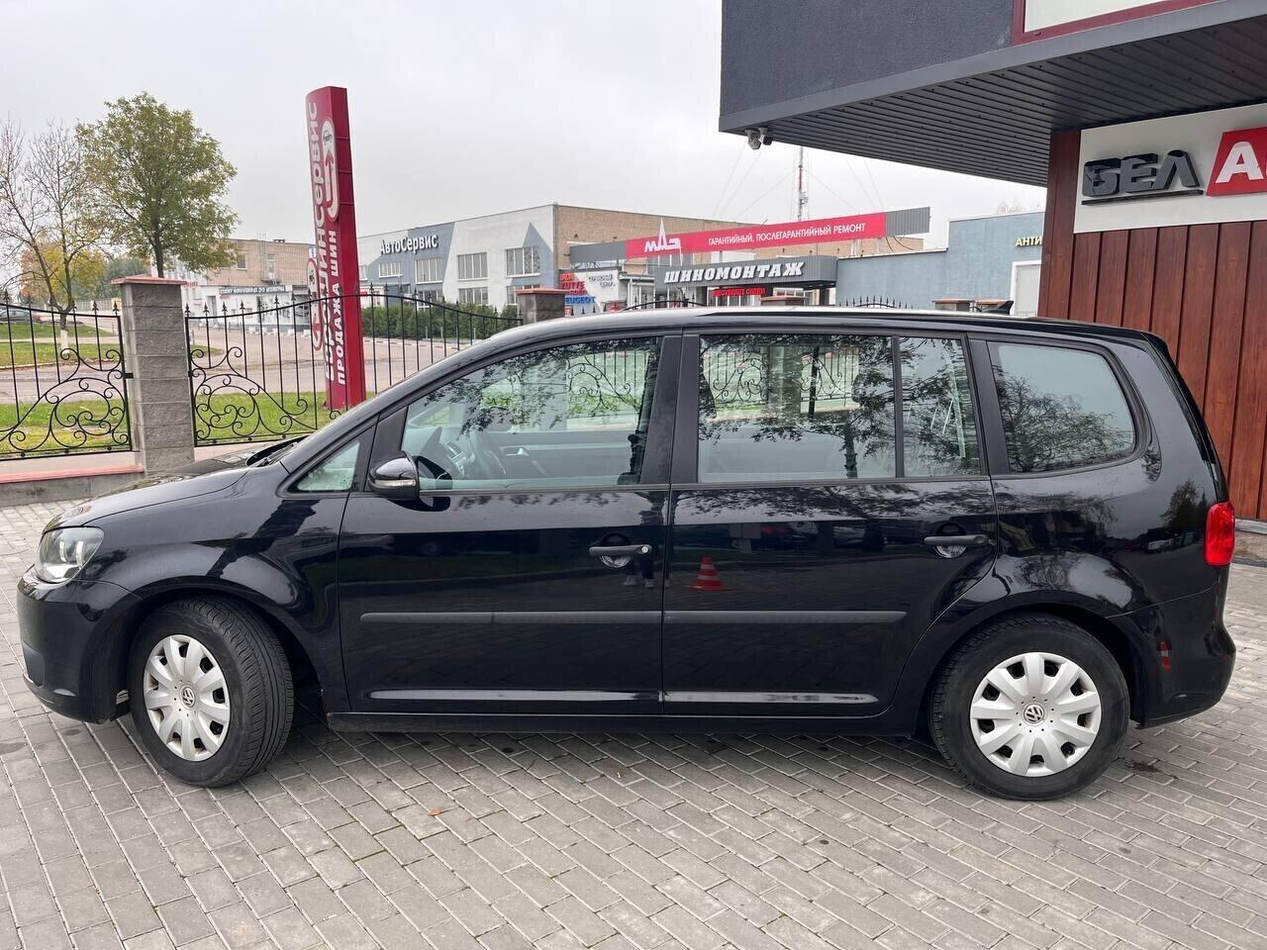Touran_2010-2015: (11, 297, 1239, 797)
